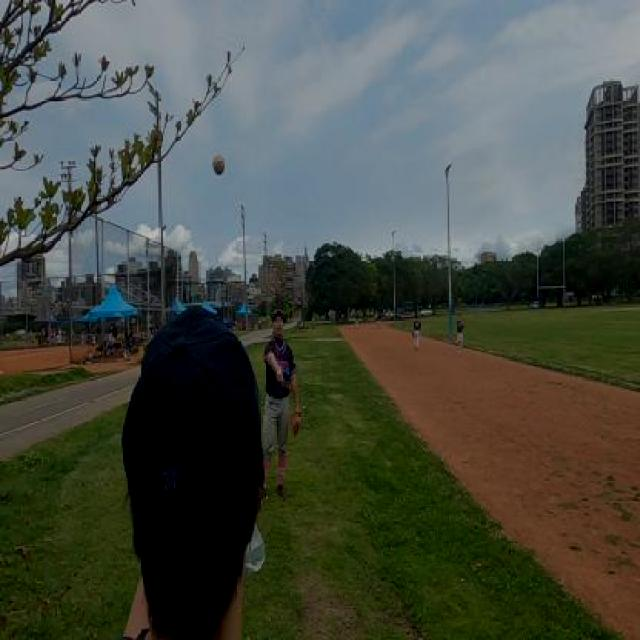ball: (212, 152, 226, 178)
